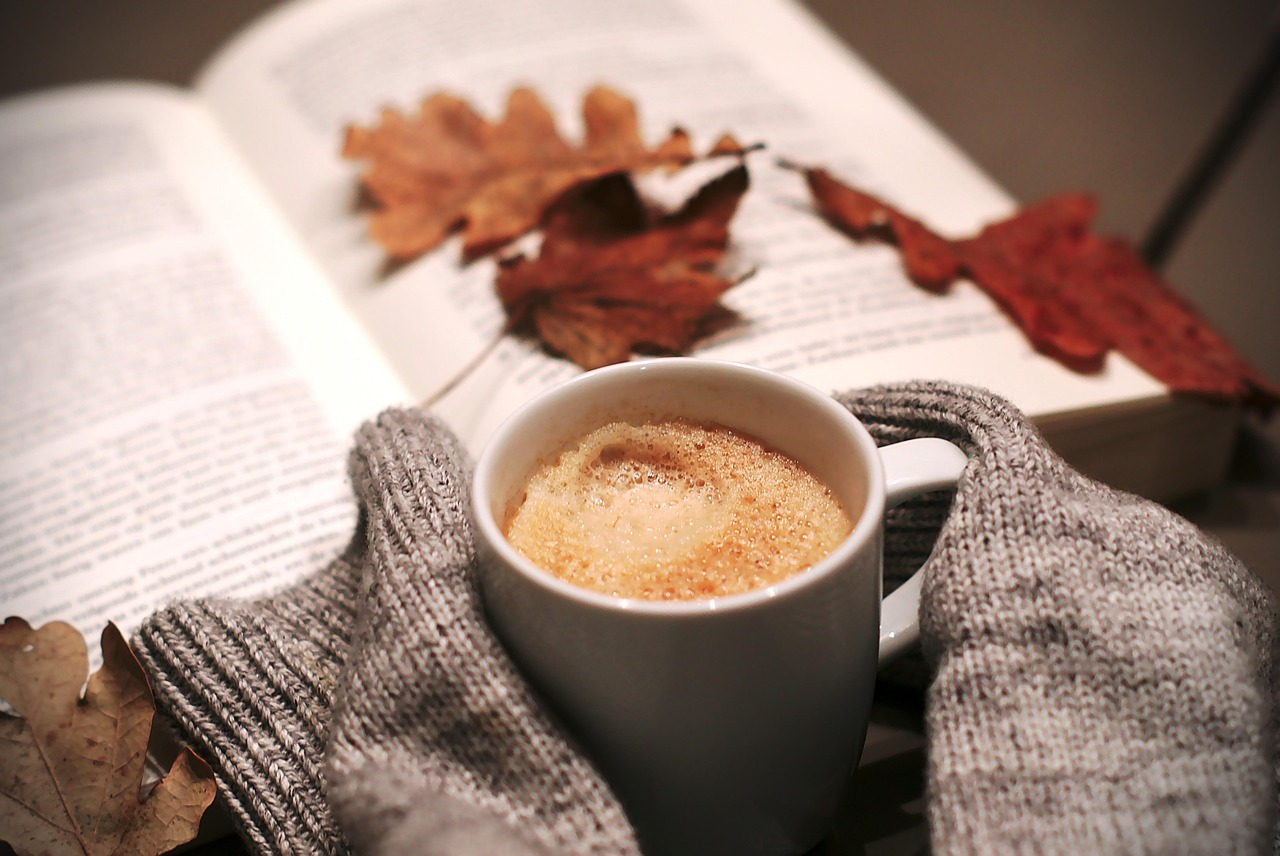mug: (436, 356, 1009, 781)
